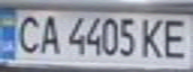0: (103, 15, 121, 57)
4: (63, 12, 87, 56), (84, 14, 106, 56)
5: (118, 15, 139, 58)
A: (36, 11, 63, 55)
C: (9, 11, 45, 55)
E: (157, 16, 193, 61)
K: (136, 16, 169, 60)
